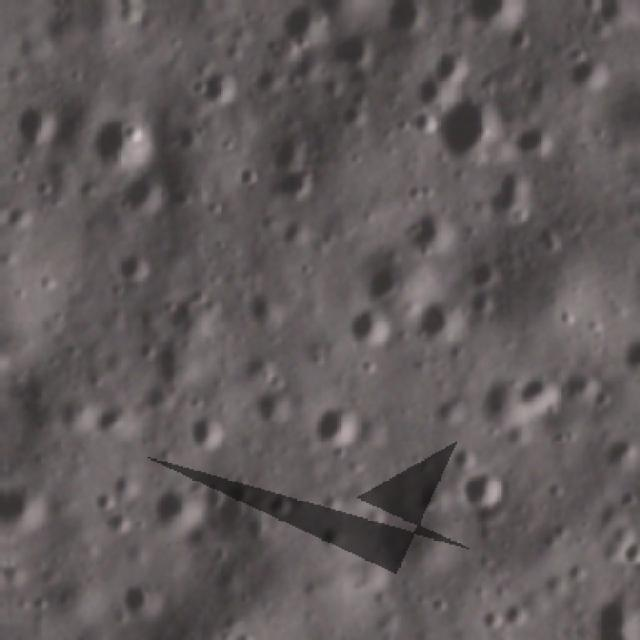crater: (265, 136, 337, 201), (434, 98, 498, 158), (170, 63, 244, 112), (323, 24, 383, 70), (154, 484, 206, 536), (99, 119, 153, 167), (458, 0, 539, 31), (454, 466, 509, 511), (121, 575, 168, 622), (340, 301, 386, 347), (6, 483, 56, 525), (399, 212, 456, 248), (314, 404, 361, 447), (252, 490, 302, 528), (512, 373, 560, 412), (256, 378, 298, 418), (603, 588, 640, 632), (116, 243, 152, 285), (122, 175, 164, 210), (416, 304, 450, 342), (98, 400, 130, 440), (178, 418, 227, 444), (389, 0, 425, 35), (472, 256, 512, 286), (20, 106, 54, 140), (459, 292, 498, 318), (117, 464, 148, 494), (97, 510, 126, 542), (610, 482, 638, 515), (570, 61, 607, 84), (621, 337, 640, 371), (620, 544, 640, 576), (92, 497, 119, 512), (546, 625, 574, 633)
